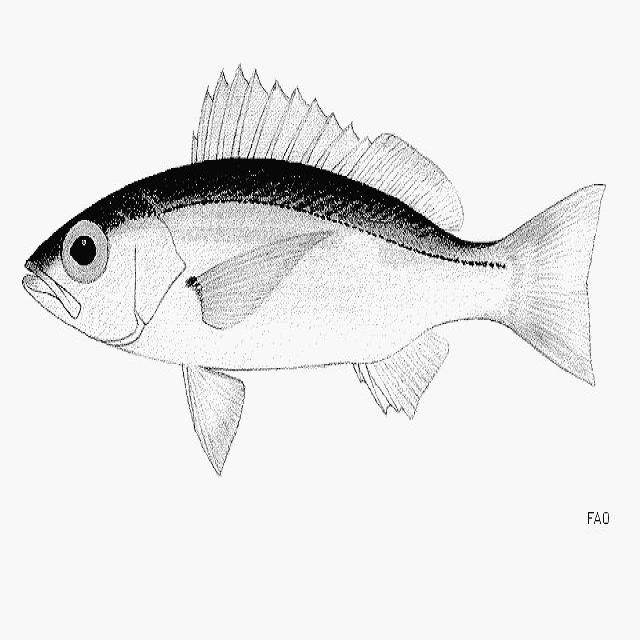ikan: (21, 61, 606, 475)
